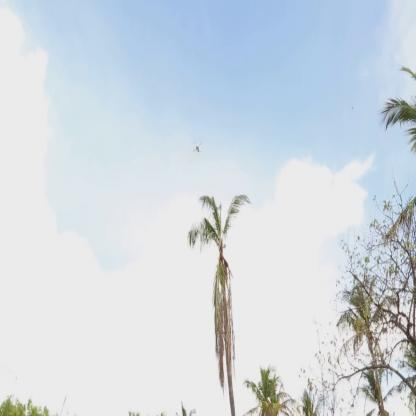drone: (191, 136, 203, 155)
